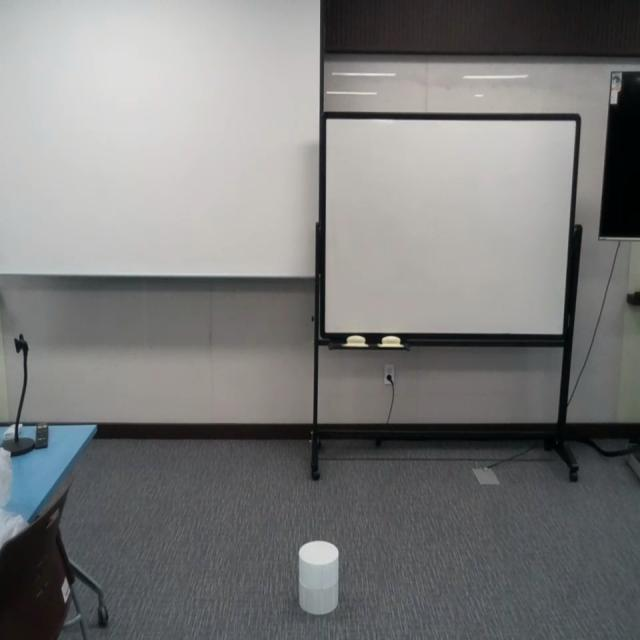cylinder: (298, 539, 339, 616)
